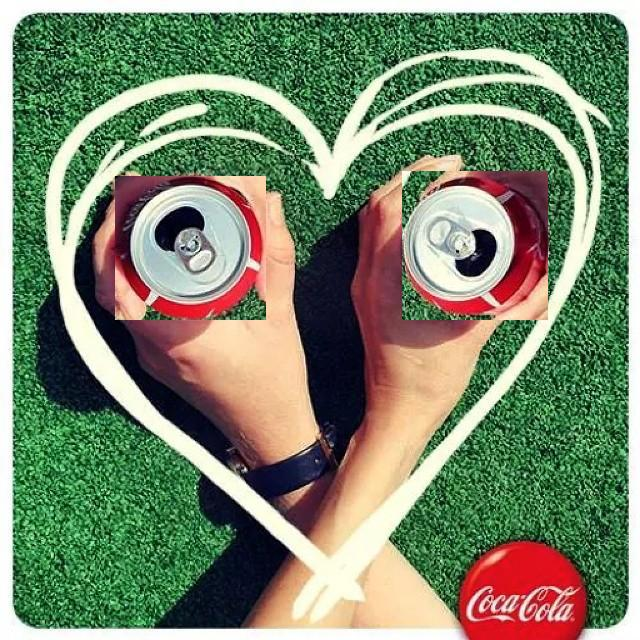coca-cola: (402, 171, 548, 320), (115, 176, 266, 320)
